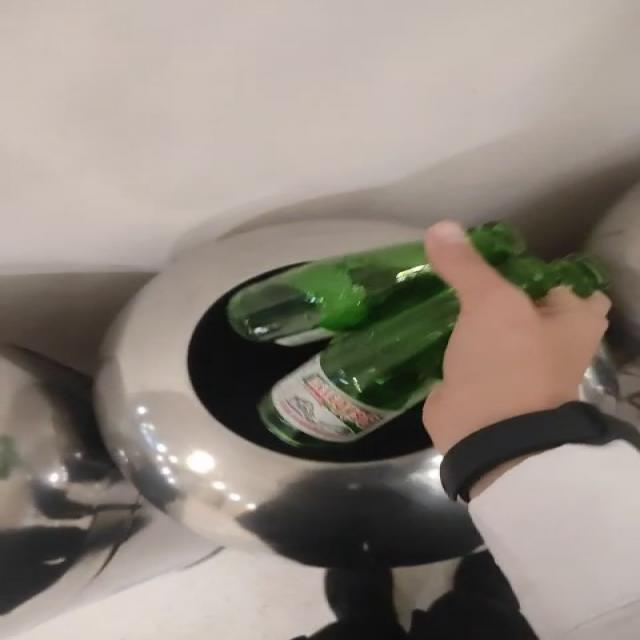glass: (229, 241, 459, 447), (473, 222, 603, 296)
